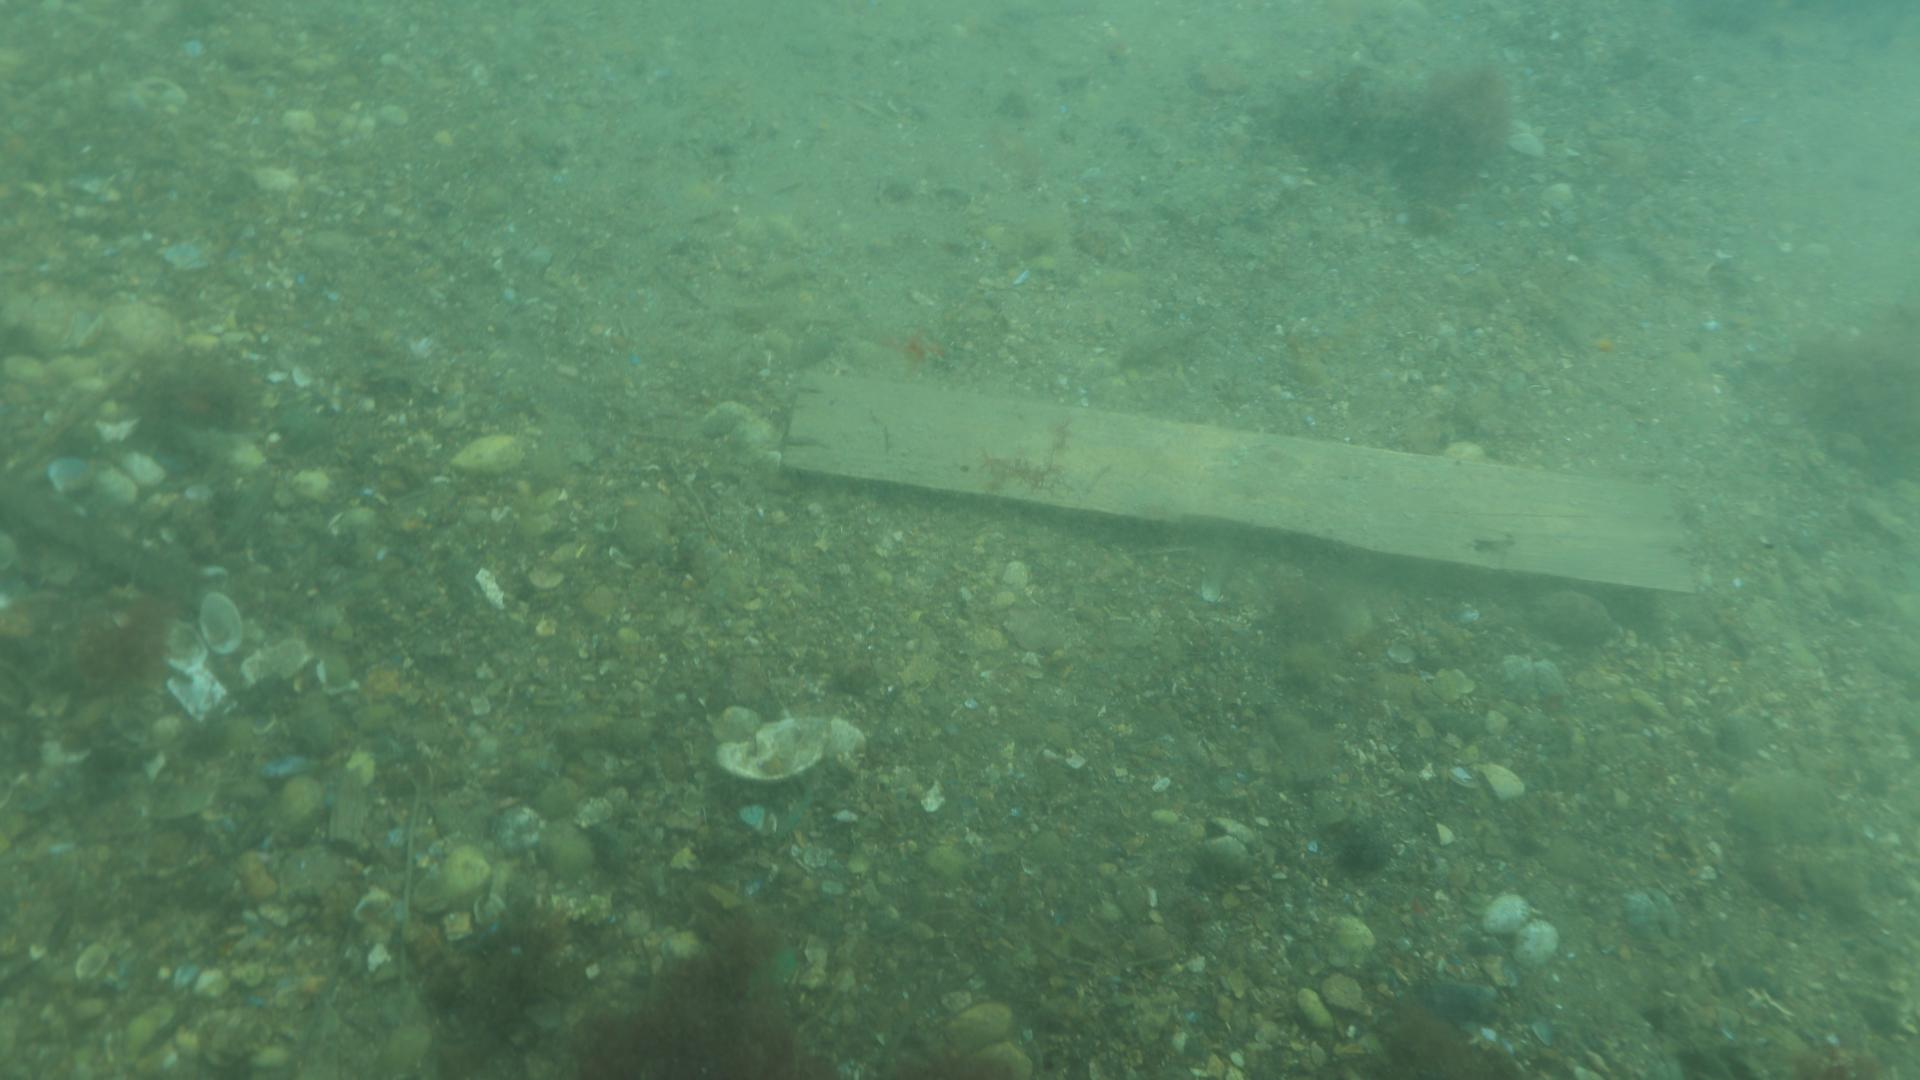wood: (775, 367, 1698, 603)
